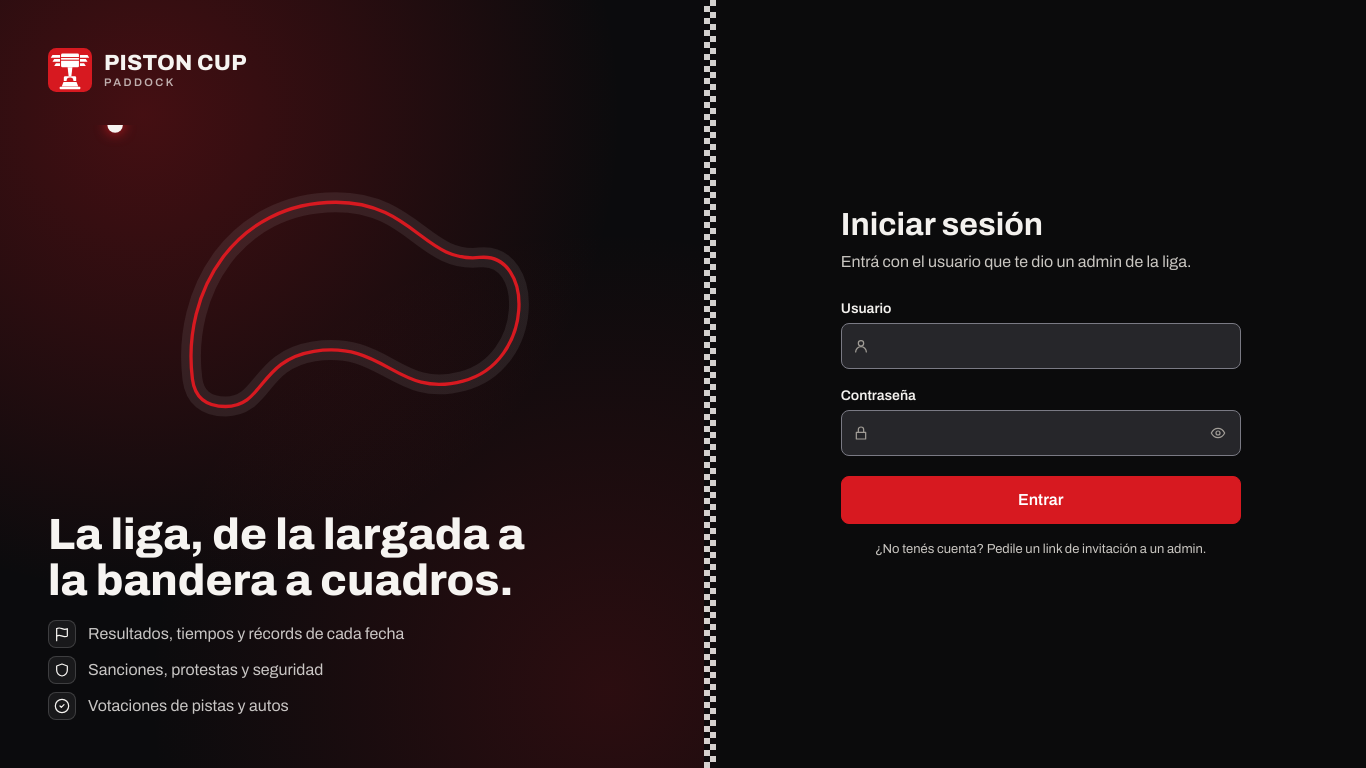
it: App › shows an error after a wrong password
Step 1. Type "santi" into the field labelled "Usuario" → (1041, 346), box left=841, top=323, right=1241, bottom=369
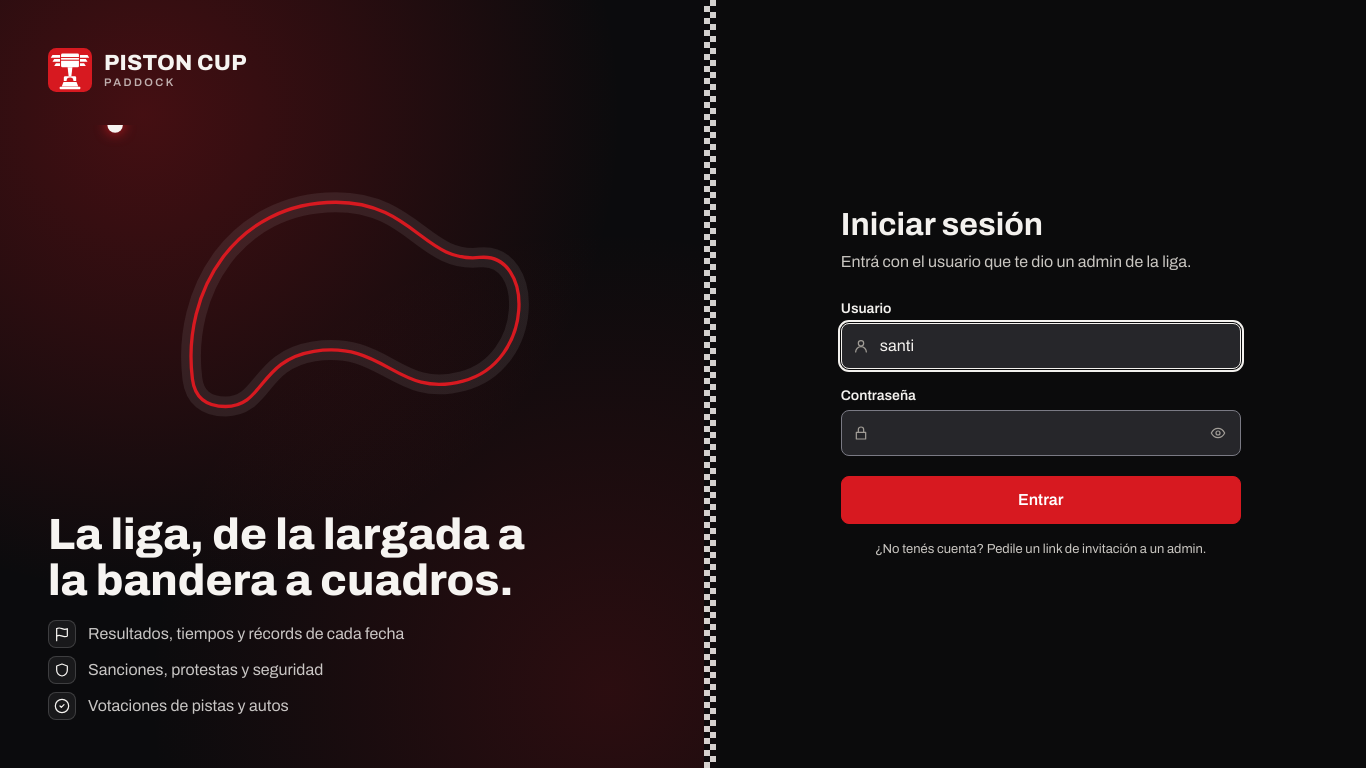
Step 2. Type "wrong" into the password field labelled "Contraseña" → (1041, 433), box left=841, top=410, right=1241, bottom=456
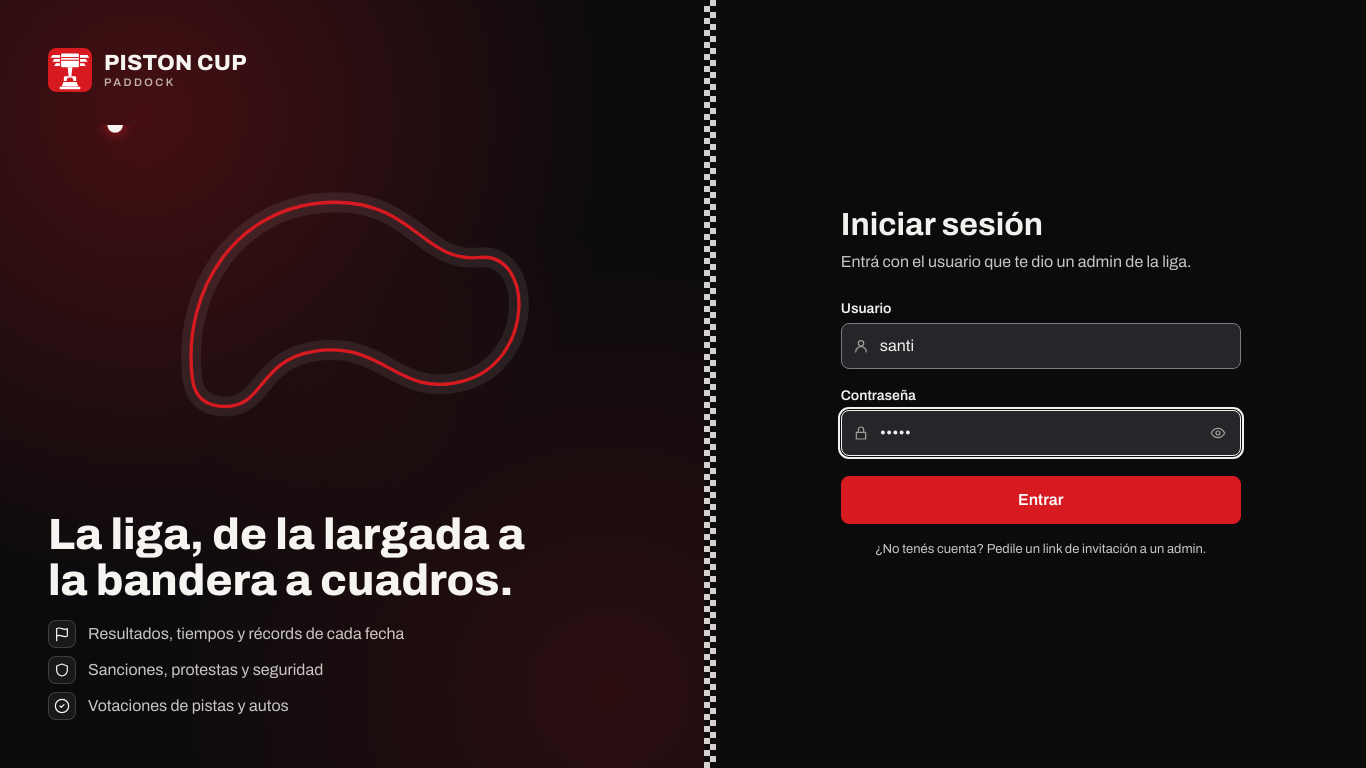
Step 3. Click the button "Entrar" → (1041, 500), box left=841, top=476, right=1241, bottom=524
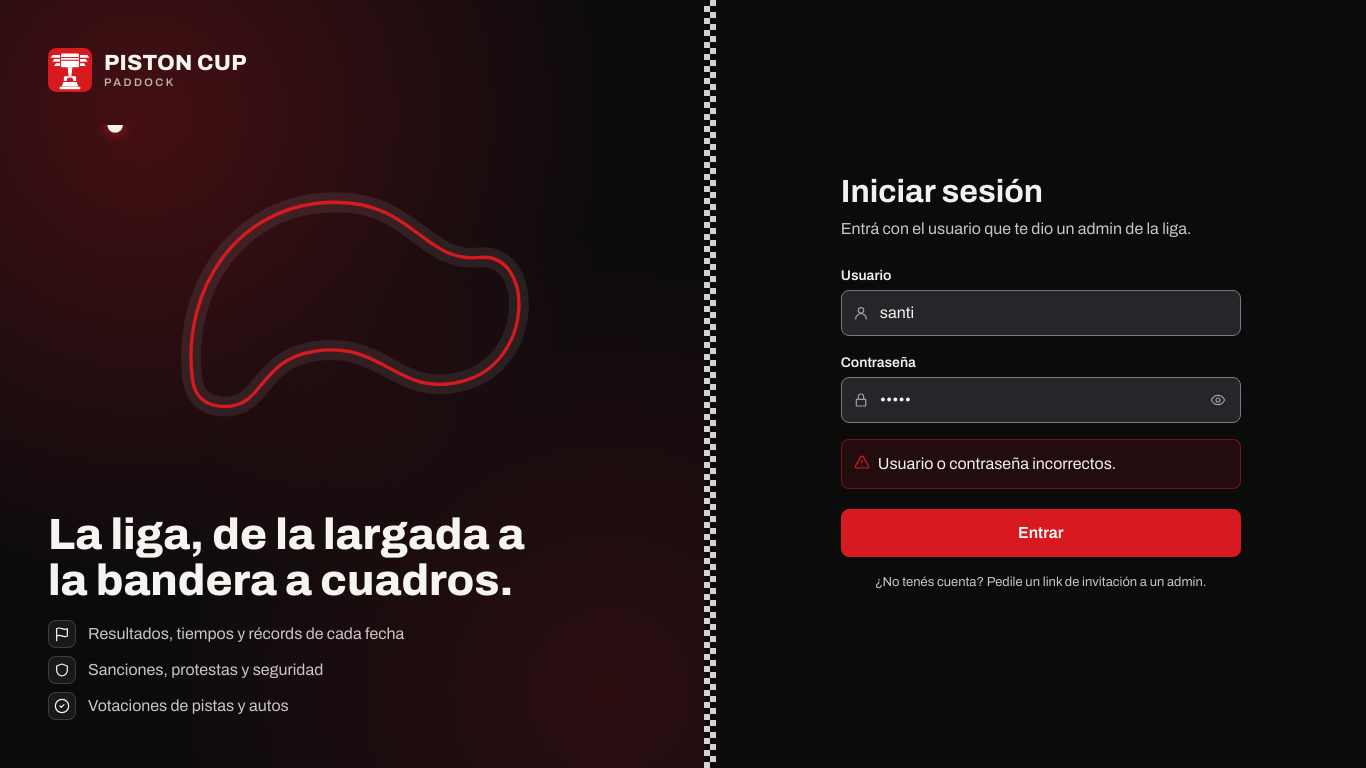
Expected: the message reads "Usuario o contraseña incorrectos.", left=878, top=455, right=1116, bottom=472
